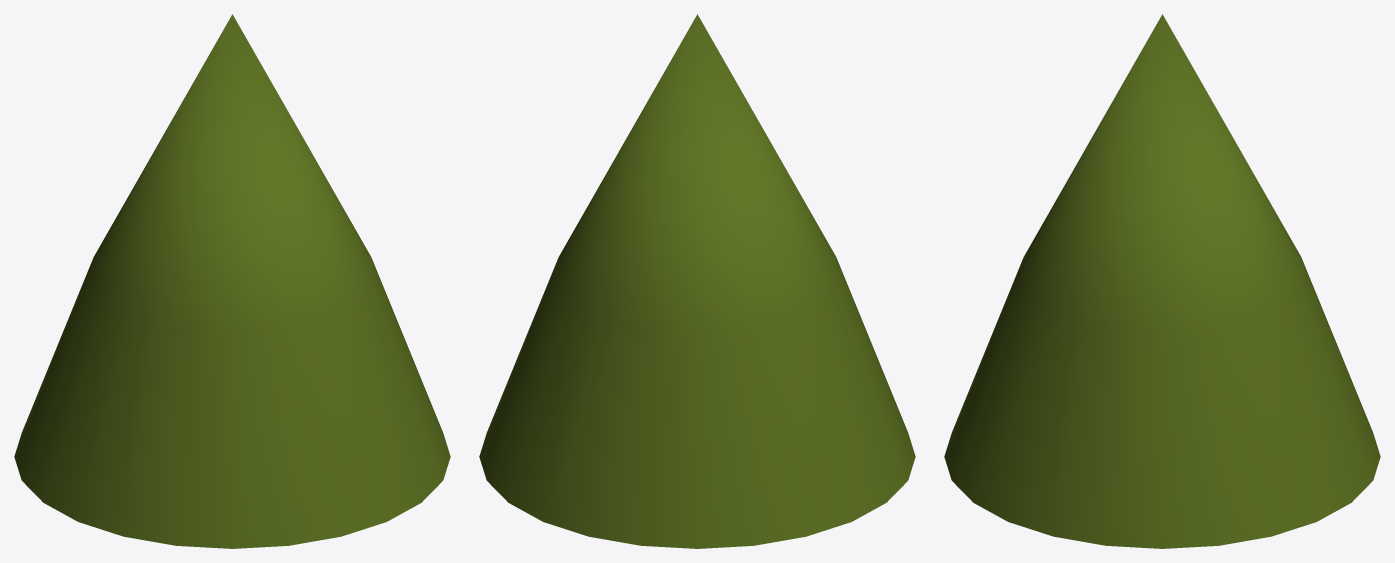
Rendered from Projectile.FBX.
3 views of the same model, side by side, from view 1: azimuth 30°, elevation 25°; view 2: azimuth 150°, elevation 25°; view 3: azimuth 270°, elevation 25° (orthographic).
Parts seen in each view (by area): view 1: Cone001; view 2: Cone001; view 3: Cone001.
Part boxes in pixels (x1=…): Cone001: x1=14, y1=14, x2=450, y2=548; Cone001: x1=479, y1=14, x2=915, y2=548; Cone001: x1=944, y1=14, x2=1380, y2=548.
Bounding box in the file's own units: 6.83 × 7.65 × 6.83.
